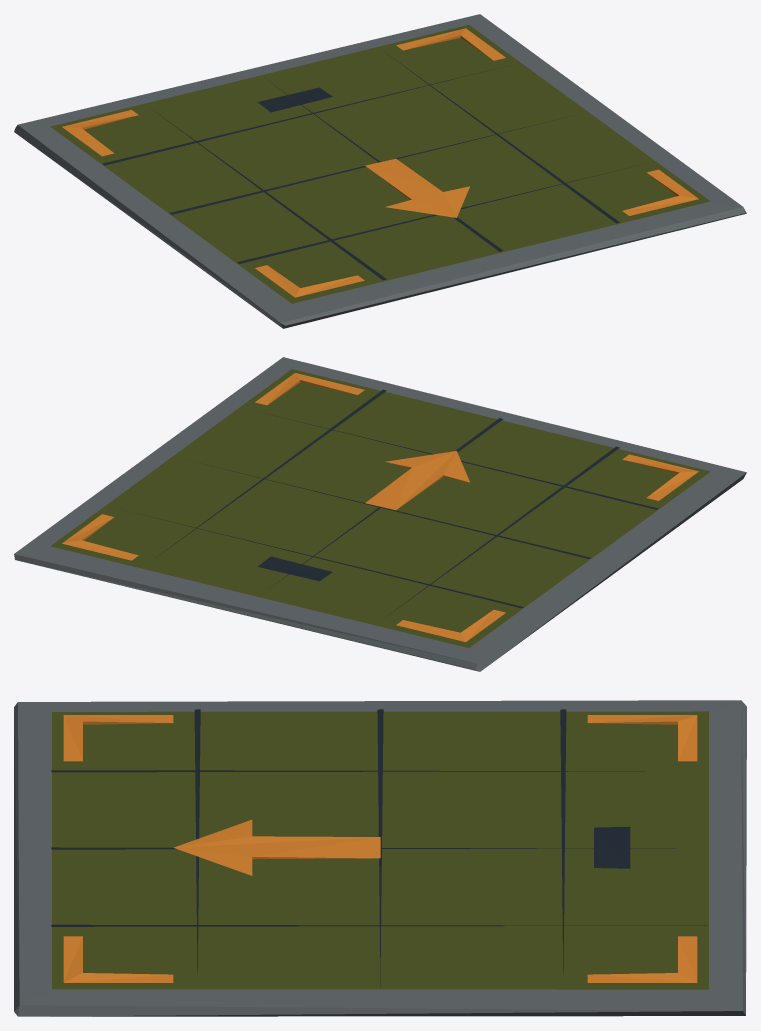
The model's file is vehicle_pad_lod1.obj.
3 renders of one model, top to bottom at view 1: azimuth 30°, elevation 25°; view 2: azimuth 150°, elevation 25°; view 3: azimuth 270°, elevation 25°, orthographic. The views are drawn at different scales.
Visible parts, largest first — view 1: vehicle_pad_lod1; view 2: vehicle_pad_lod1; view 3: vehicle_pad_lod1.
Part boxes in pixels (x1,y1,x2,y2): vehicle_pad_lod1: (14,14,746,328); vehicle_pad_lod1: (14,357,746,671); vehicle_pad_lod1: (14,700,746,1016).
Bounding box in the file's own units: 6 × 0.175 × 6.01.
